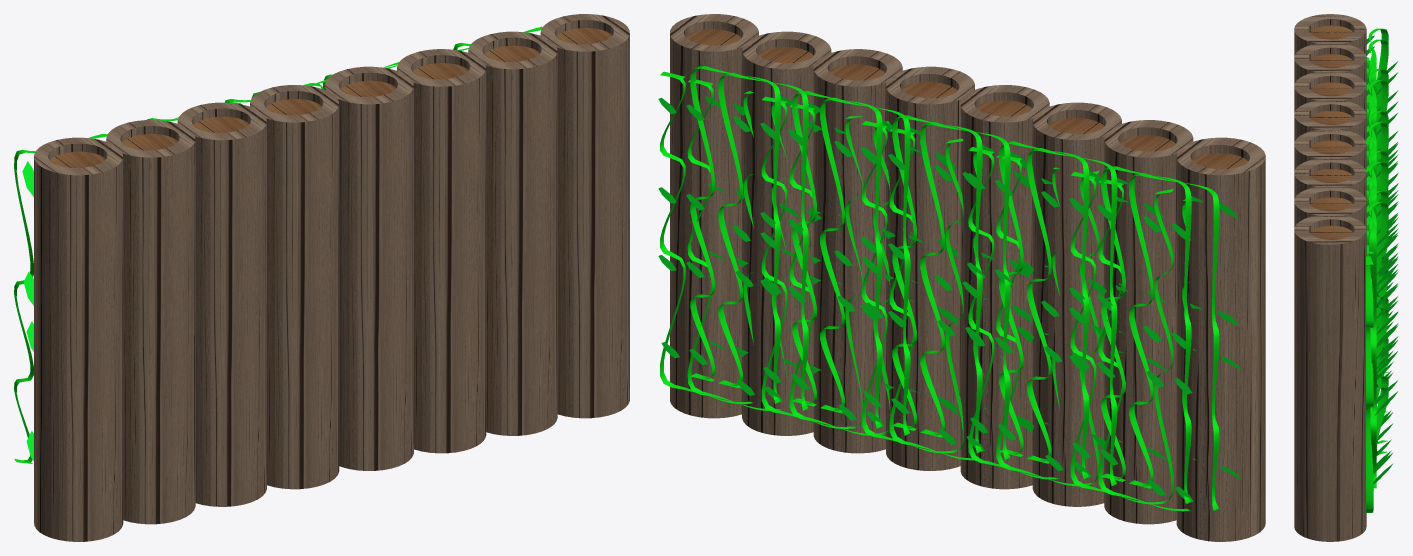
File: wall.fbx
3 views of the same model, side by side, from view 1: azimuth 30°, elevation 25°; view 2: azimuth 150°, elevation 25°; view 3: azimuth 270°, elevation 25° (orthographic). The views are drawn at different scales.
Parts seen in each view (by area): view 1: Cylinder.006, Cylinder.014, Cylinder, Cylinder.012, Cylinder.008, Cylinder.004, Cylinder.002, Cylinder.010, BezierCurve.019; view 2: Cylinder.006, Cylinder.008, Cylinder.012, Cylinder.002, Cylinder.014, Cylinder.004, Cylinder, Cylinder.010, BezierCurve.019, BezierCurve.016, BezierCurve.015, BezierCurve.018 (+20 smaller); view 3: Cylinder.008, BezierCurve.005, Cylinder, Cylinder.002, Cylinder.006, Cylinder.014, Cylinder.012, Cylinder.010, BezierCurve, Cylinder.004, BezierCurve.006, BezierCurve.015 (+16 smaller).
Part boxes in pixels (left/top/right/bottom): Cylinder.006: left=34, top=137, right=123, bottom=541; Cylinder.014: left=324, top=66, right=413, bottom=470; Cylinder: left=250, top=85, right=339, bottom=489; Cylinder.012: left=397, top=49, right=486, bottom=453; Cylinder.008: left=540, top=14, right=629, bottom=418; Cylinder.004: left=106, top=120, right=195, bottom=524; Cylinder.002: left=177, top=102, right=266, bottom=506; Cylinder.010: left=468, top=31, right=557, bottom=435; BezierCurve.019: left=14, top=134, right=106, bottom=463; Cylinder.006: left=1176, top=137, right=1265, bottom=541; Cylinder.008: left=670, top=14, right=758, bottom=418; Cylinder.012: left=813, top=49, right=902, bottom=453; Cylinder.002: left=1032, top=102, right=1121, bottom=506; Cylinder.014: left=886, top=66, right=974, bottom=470; Cylinder.004: left=1104, top=120, right=1193, bottom=524; Cylinder: left=960, top=85, right=1049, bottom=489; Cylinder.010: left=742, top=31, right=831, bottom=435; BezierCurve.019: left=1129, top=173, right=1219, bottom=510; BezierCurve.016: left=820, top=97, right=910, bottom=435; BezierCurve.015: left=718, top=72, right=808, bottom=410; BezierCurve.018: left=1027, top=148, right=1117, bottom=485; Cylinder.008: left=1294, top=214, right=1366, bottom=541; BezierCurve.005: left=1368, top=202, right=1388, bottom=488; Cylinder: left=1294, top=99, right=1366, bottom=142; Cylinder.002: left=1294, top=71, right=1366, bottom=113; Cylinder.006: left=1294, top=14, right=1366, bottom=56; Cylinder.014: left=1294, top=129, right=1366, bottom=171; Cylinder.012: left=1294, top=157, right=1366, bottom=200; Cylinder.010: left=1294, top=185, right=1366, bottom=228; BezierCurve: left=1366, top=230, right=1373, bottom=512; Cylinder.004: left=1294, top=42, right=1366, bottom=84; BezierCurve.006: left=1368, top=161, right=1388, bottom=412; BezierCurve.015: left=1368, top=191, right=1388, bottom=444.
Bounding box in the file's own units: 1510 × 907 × 289.
4 materials, 2 textured.
